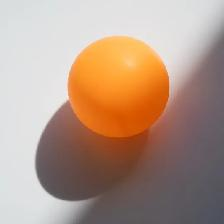YellowBall: (66, 35, 168, 138)
